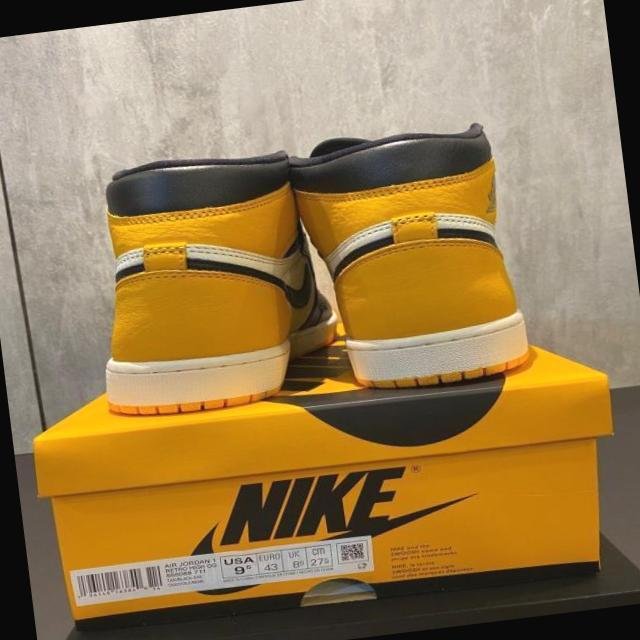nike_original_jordan: (72, 142, 356, 426), (292, 120, 538, 402)
